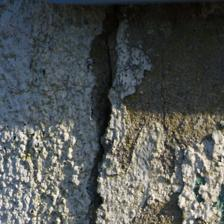Crack: (80, 20, 130, 222)
